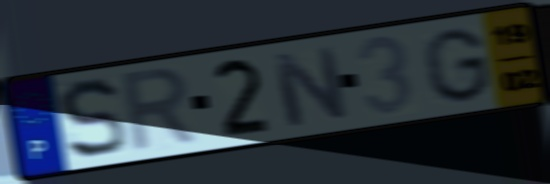2: (212, 56, 271, 138)
3: (355, 31, 418, 119)
G: (420, 26, 494, 105)
N: (268, 43, 352, 130)
R: (119, 63, 202, 157)
S: (55, 76, 129, 163)
